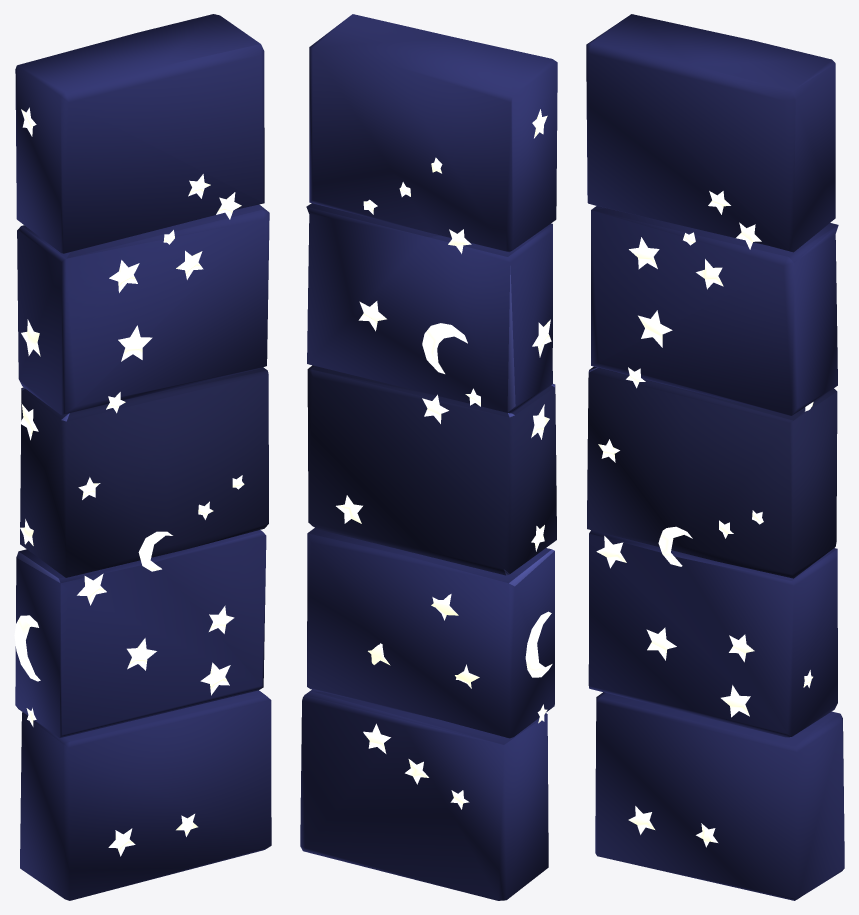
File: den_night_column_lod1.glb
The picture shows the model from 3 angles, left to right: view 1: azimuth 30°, elevation 25°; view 2: azimuth 150°, elevation 25°; view 3: azimuth 330°, elevation 25°; orthographic projection.
Parts seen in each view (by area): view 1: den_night_column.001; view 2: den_night_column.001; view 3: den_night_column.001.
Part boxes in pixels (x1,y1,x2,y2): den_night_column.001: (14, 14, 271, 900); den_night_column.001: (300, 14, 557, 900); den_night_column.001: (586, 14, 844, 900).
Bounding box in the file's own units: 6.25 × 22.04 × 2.57.
